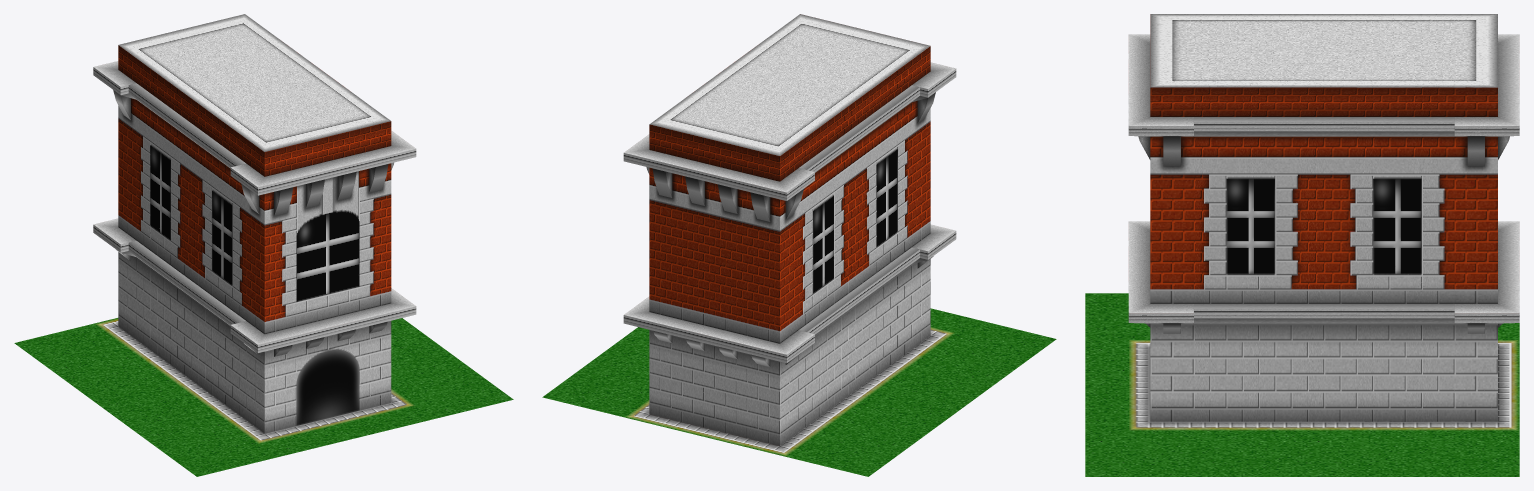
File: firehall.dae
The picture shows the model from 3 angles, left to right: view 1: azimuth 30°, elevation 25°; view 2: azimuth 150°, elevation 25°; view 3: azimuth 270°, elevation 25°; orthographic projection. The views are drawn at different scales.
Visible parts, largest first — view 1: Box02; view 2: Box02; view 3: Box02.
Boxes of the visible parts, x1,y1,x2,y2 form: Box02: (14,14,513,476); Box02: (542,14,1056,476); Box02: (1085,14,1519,476).
Bounding box in the file's own units: 10 × 10 × 8.5.
